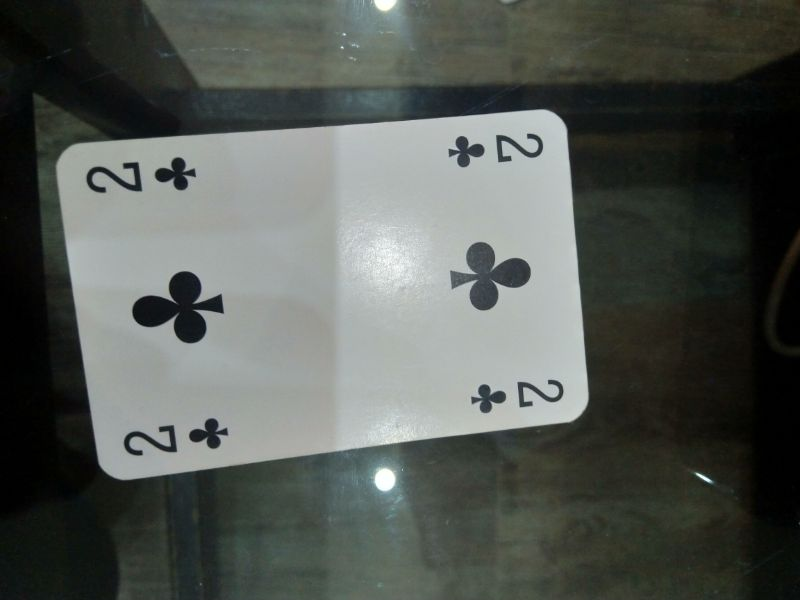2c: (82, 153, 207, 202), (443, 124, 549, 177), (120, 416, 241, 459), (465, 365, 568, 415)
